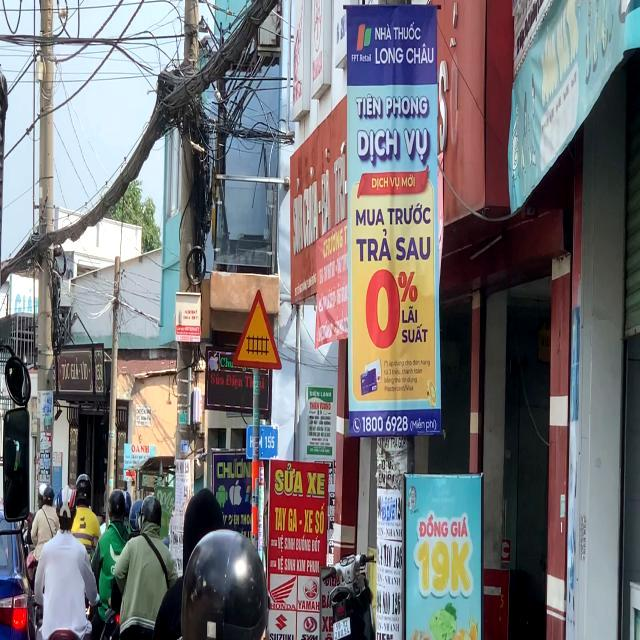Giao nhau voi duong sat co rao chan: (230, 277, 286, 370)
